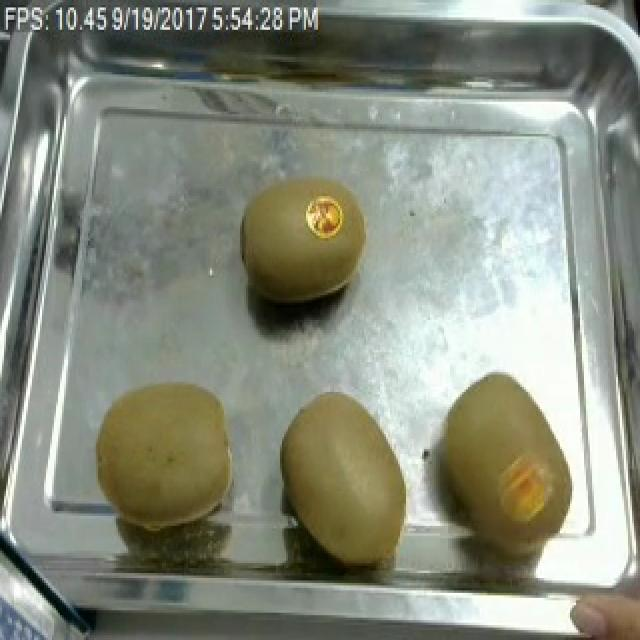Fruit: (86, 370, 246, 543), (270, 384, 418, 570), (432, 367, 586, 543), (230, 174, 374, 312), (562, 575, 640, 640)
